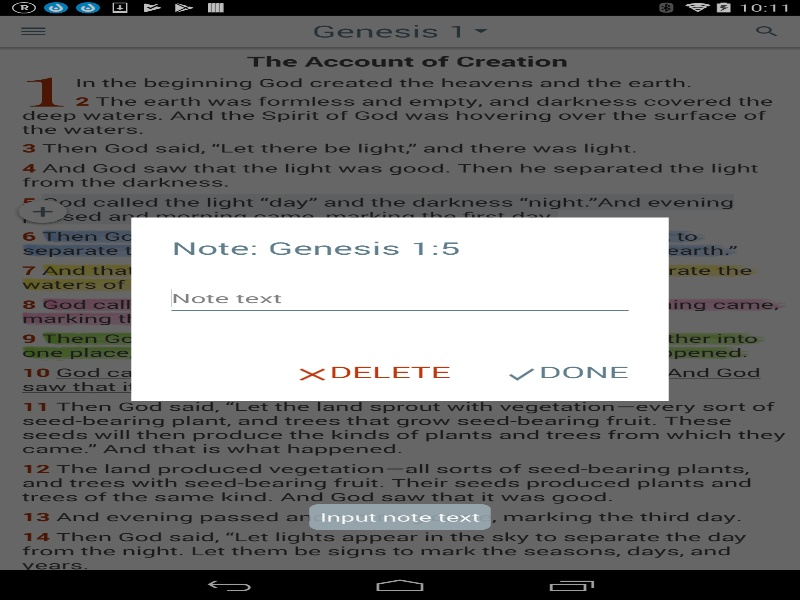Input: (171, 259, 628, 306)
